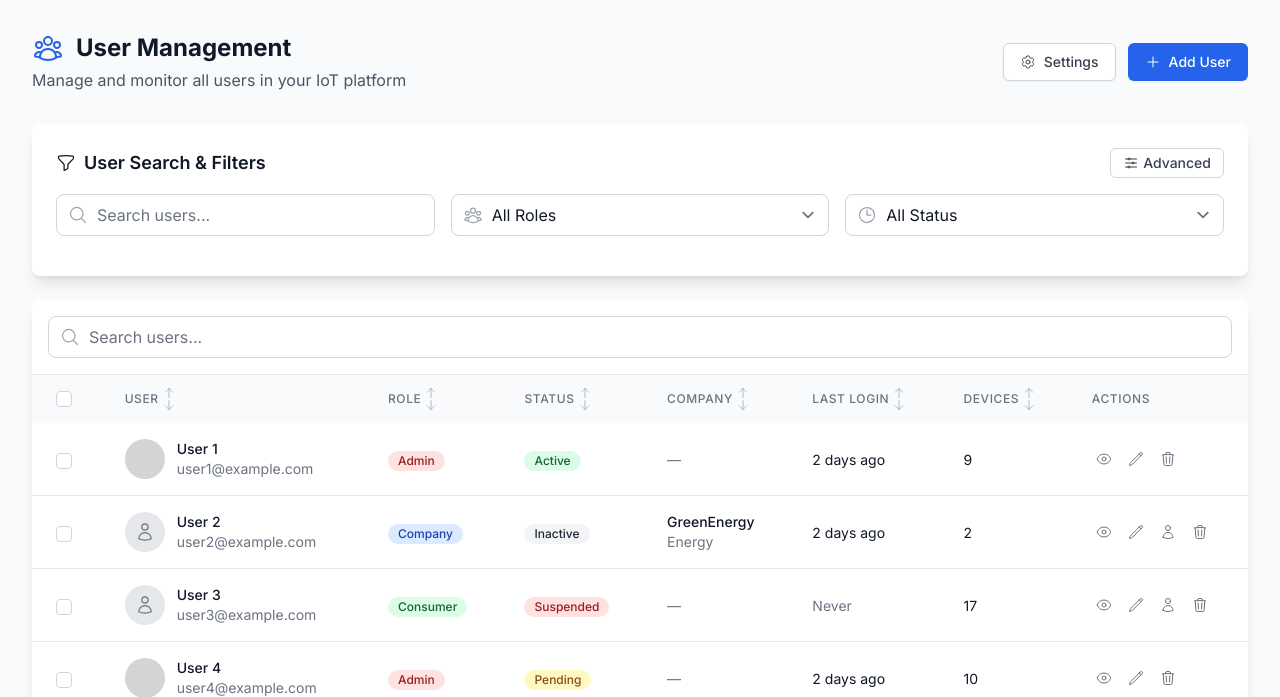
Test: UserManagementPage › shows bulk actions when users are selected
Expected: the text "User 1" is shown, x1=177 y1=440 x2=218 y2=457
Select the first checkbox (header checkbox)
Click the checkbox in the row of "Role".
click(64, 399)  # box x1=56 y1=391 x2=72 y2=407
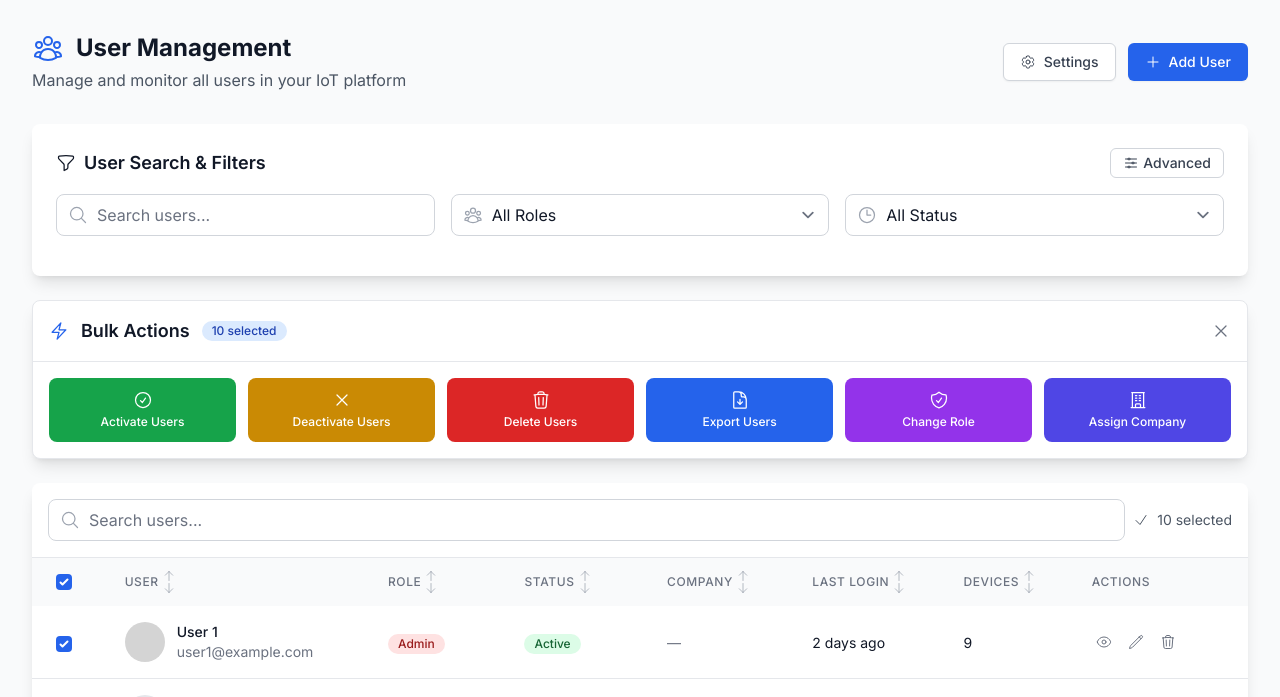
Result: the heading "Bulk Actions" is shown at x1=81 y1=317 x2=190 y2=345
